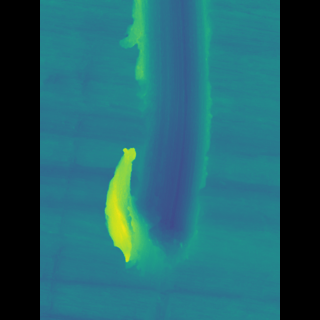Loch: (116, 0, 201, 277)
